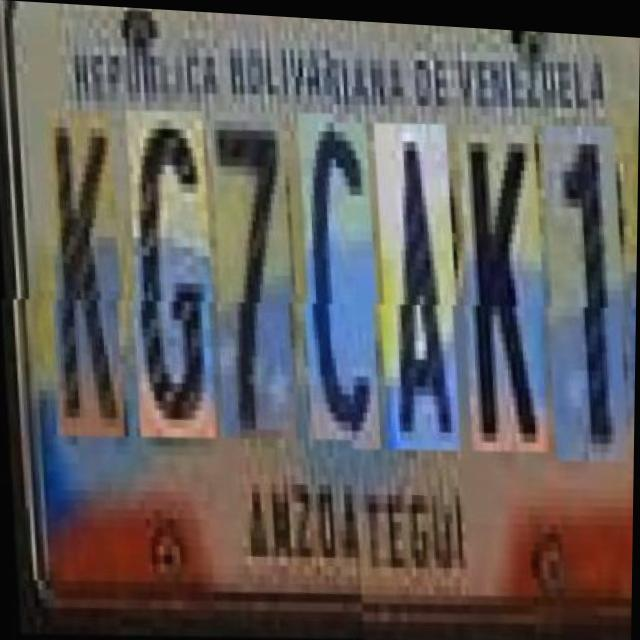1: (535, 121, 630, 462)
7: (204, 118, 298, 449)
a: (367, 120, 462, 450)
c: (291, 120, 383, 450)
g: (120, 117, 218, 448)
k: (451, 120, 549, 451), (40, 116, 126, 446)
